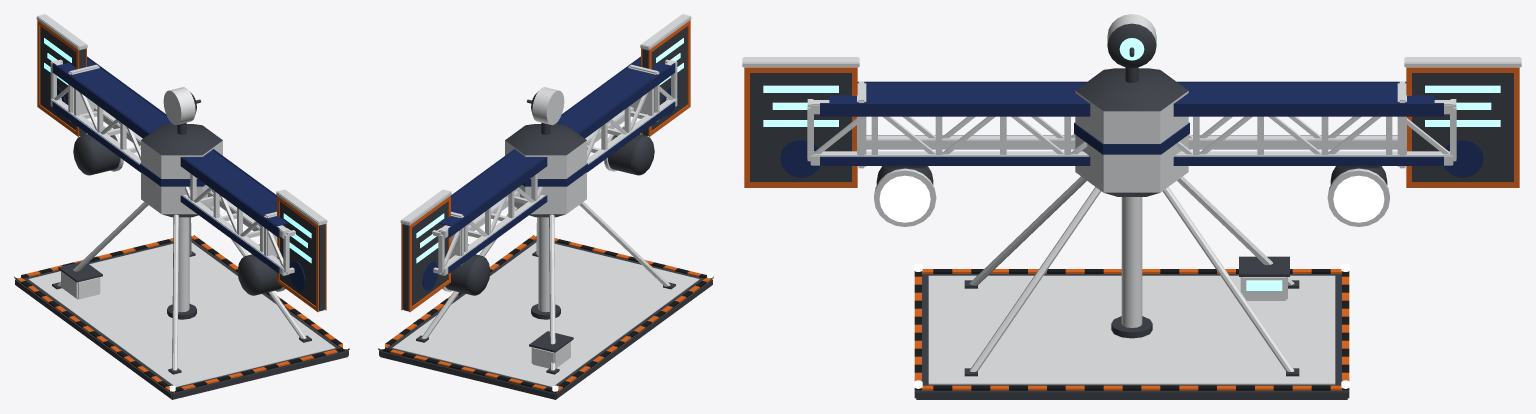
The model's file is checkpoint.glb.
3 renders of one model, left to right at view 1: azimuth 30°, elevation 25°; view 2: azimuth 150°, elevation 25°; view 3: azimuth 270°, elevation 25°, orthographic. The views are drawn at different scales.
Visible parts, largest first — view 1: checkpoint_concord_enamel, checkpoint_dark_steel, checkpoint_concord_navy, checkpoint_hazard_orange, checkpoint_hazard_black, checkpoint_scanner_glow; view 2: checkpoint_concord_enamel, checkpoint_dark_steel, checkpoint_concord_navy, checkpoint_hazard_orange, checkpoint_hazard_black, checkpoint_scanner_glow; view 3: checkpoint_concord_enamel, checkpoint_dark_steel, checkpoint_concord_navy, checkpoint_hazard_orange, checkpoint_flood_glass, checkpoint_scanner_glow, checkpoint_hazard_black.
Boxes of the visible parts, x1,y1,x2,y2 form: checkpoint_concord_enamel: (28, 14, 335, 387); checkpoint_dark_steel: (15, 26, 348, 399); checkpoint_concord_navy: (50, 56, 305, 290); checkpoint_hazard_orange: (14, 20, 349, 393); checkpoint_hazard_black: (14, 235, 349, 392); checkpoint_scanner_glow: (44, 38, 311, 263); checkpoint_concord_enamel: (392, 14, 699, 387); checkpoint_dark_steel: (379, 26, 712, 399); checkpoint_concord_navy: (422, 56, 677, 290); checkpoint_hazard_orange: (379, 20, 713, 393); checkpoint_hazard_black: (378, 235, 713, 392); checkpoint_scanner_glow: (416, 38, 683, 263); checkpoint_concord_enamel: (742, 14, 1521, 384); checkpoint_dark_steel: (750, 23, 1513, 399); checkpoint_concord_navy: (780, 81, 1483, 177); checkpoint_hazard_orange: (744, 67, 1519, 390); checkpoint_flood_glass: (879, 175, 1384, 388); checkpoint_scanner_glow: (763, 38, 1500, 290); checkpoint_hazard_black: (914, 269, 1349, 390).
Size of the model in its own units: 30.1 by 39.2 by 82.4.
